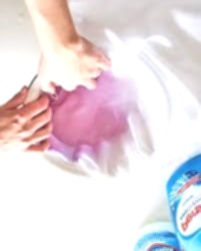wine: (49, 71, 128, 145)
